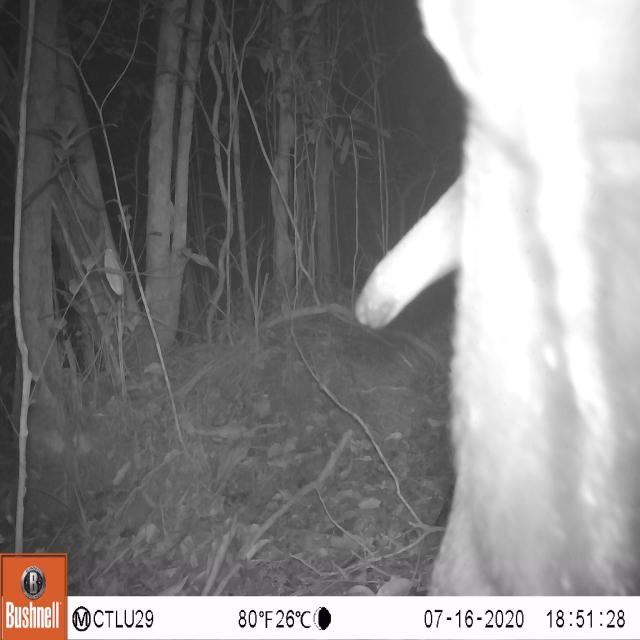Giant Anteater: (354, 0, 639, 593)
